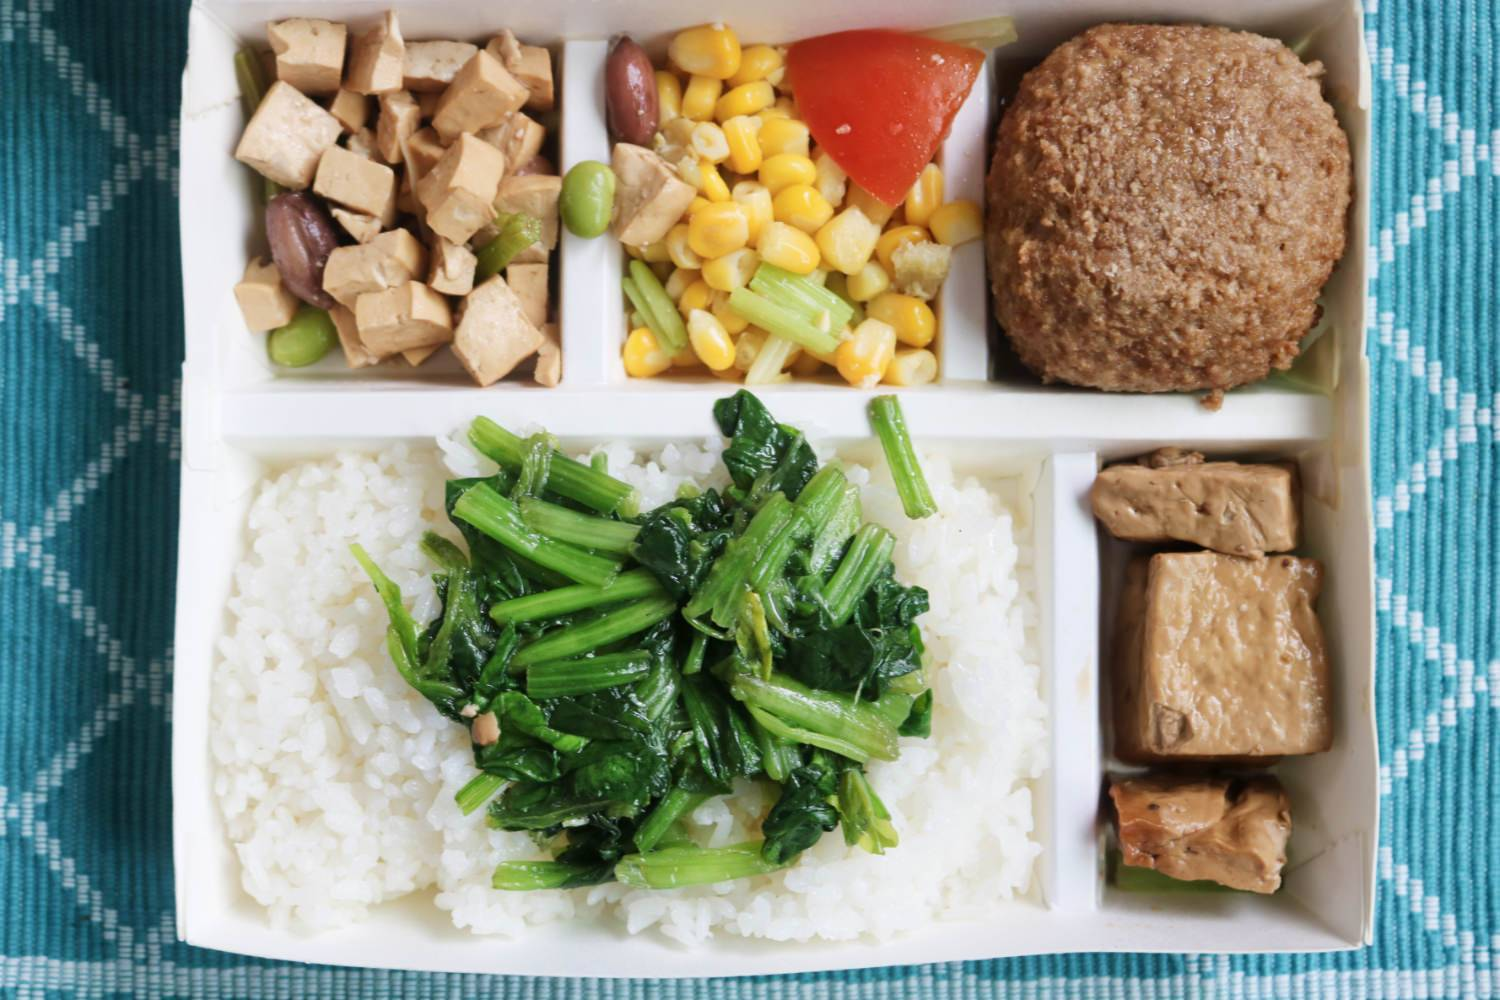rice: (211, 445, 416, 908), (929, 484, 1023, 921)
